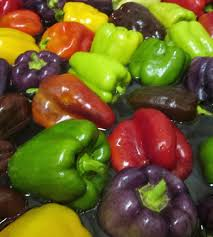bell pepper: (8, 123, 112, 203), (103, 164, 193, 237), (103, 113, 194, 182), (43, 74, 107, 134), (126, 31, 185, 93), (68, 51, 130, 104), (6, 42, 63, 92), (128, 82, 205, 117), (40, 27, 102, 69), (94, 25, 139, 66), (190, 56, 213, 96)
